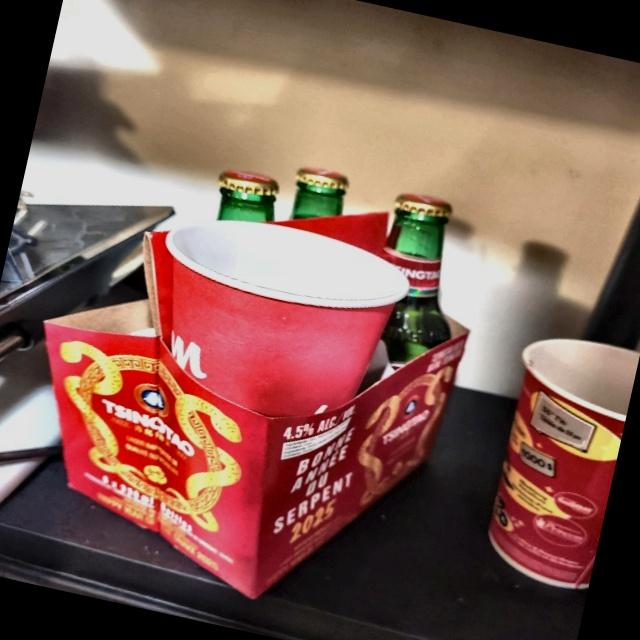Timmies: (126, 199, 422, 454)
